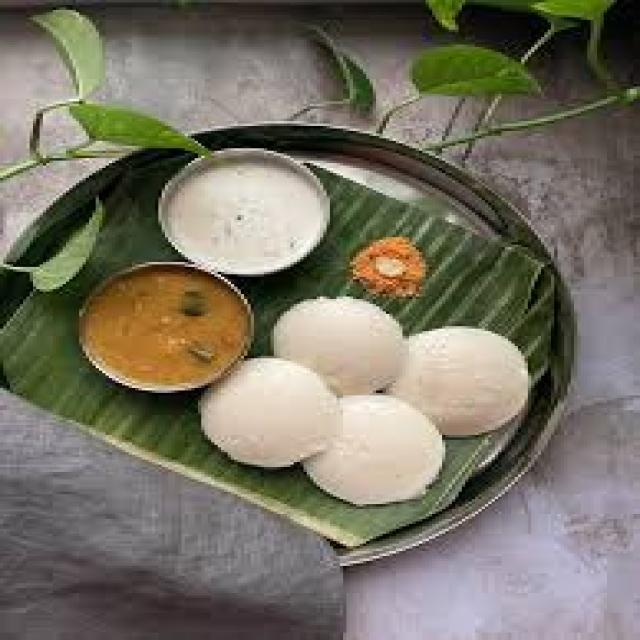IDLI: (389, 326, 528, 435), (300, 398, 442, 504), (201, 358, 336, 465), (274, 299, 399, 393)
